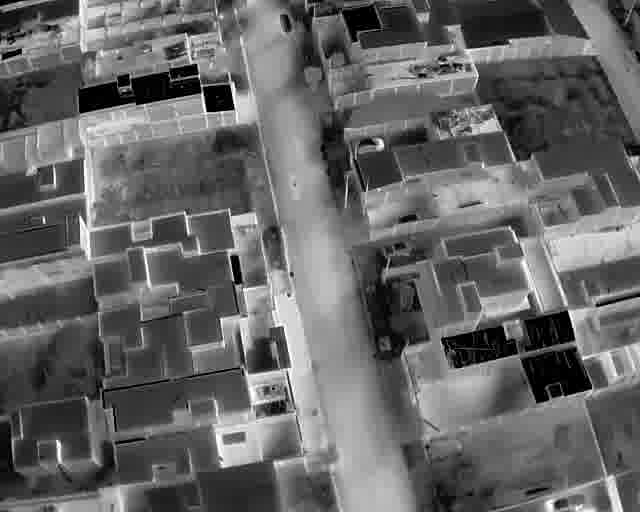car: (382, 240, 417, 258), (355, 137, 383, 153), (390, 214, 421, 227), (279, 13, 291, 32)
